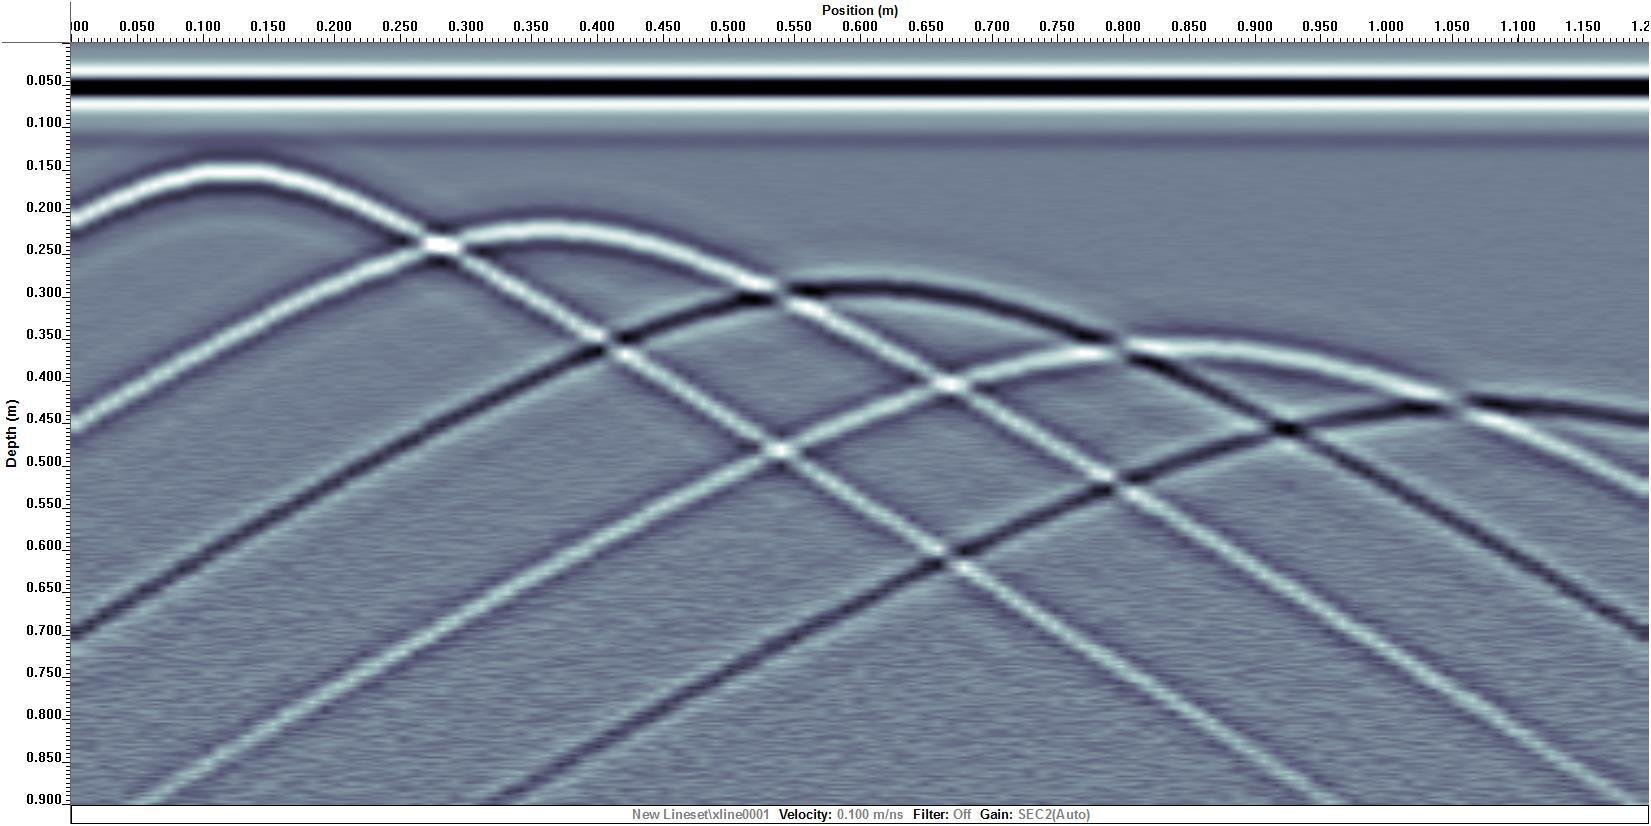hyperbola: (432, 265, 1339, 490), (132, 212, 1039, 436), (739, 333, 1646, 557), (73, 145, 418, 238)
